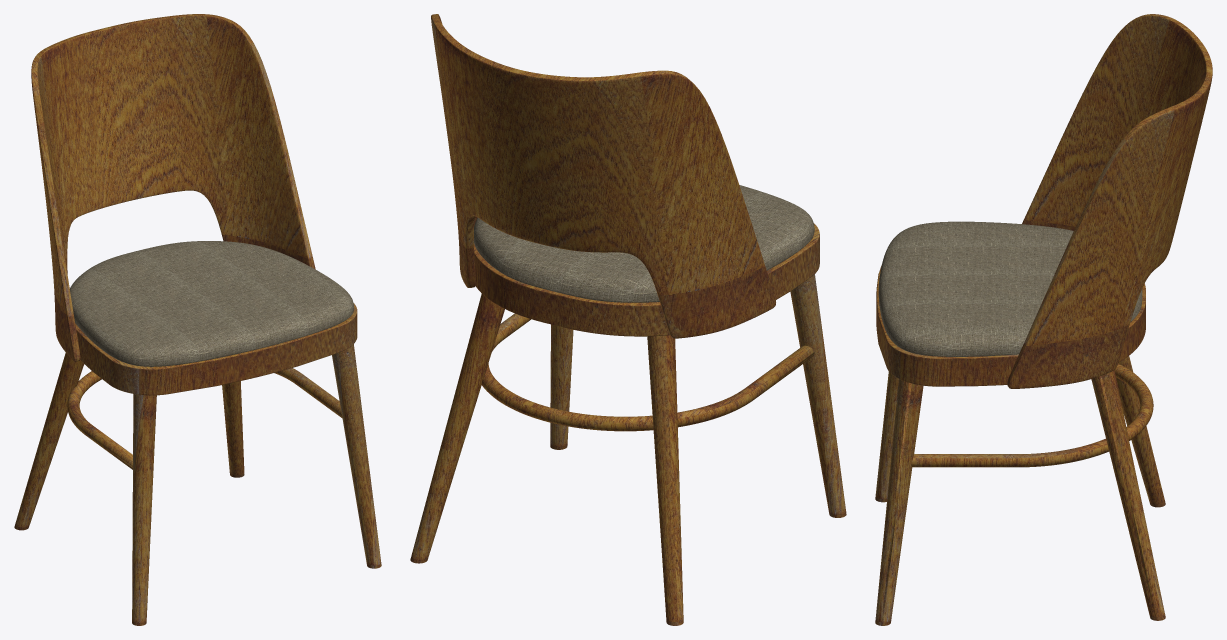
The picture shows the model from 3 angles, left to right: view 1: azimuth 30°, elevation 25°; view 2: azimuth 150°, elevation 25°; view 3: azimuth 270°, elevation 25°; orthographic projection. The views are drawn at different scales.
Parts seen in each view (by area): view 1: frame, seat; view 2: frame, seat; view 3: frame, seat.
Part boxes in pixels (x1,y1,x2,y2): frame: (14,14,381,625); seat: (70,241,353,366); frame: (410,14,846,625); seat: (474,185,814,302); frame: (875,14,1212,625); seat: (878,221,1142,356).
Size of the model in its own units: 91.22 by 162 by 99.69.
2 materials, 2 textured.
